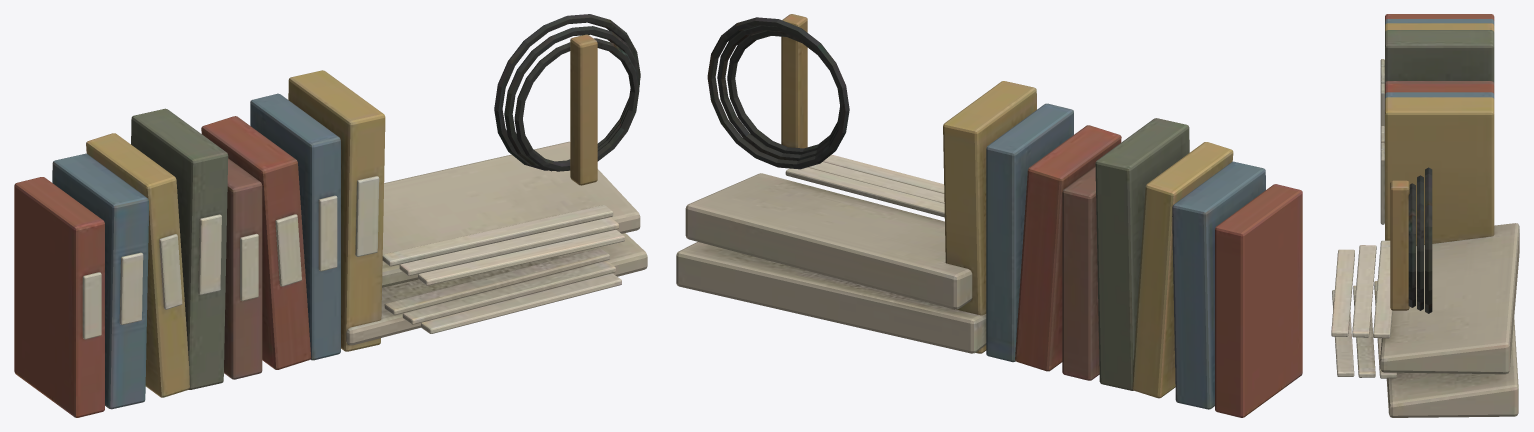
File: shelfwall-clutter-a.glb
3 renders of one model, left to right at view 1: azimuth 30°, elevation 25°; view 2: azimuth 150°, elevation 25°; view 3: azimuth 270°, elevation 25°, orthographic. The views are drawn at different scales.
Parts seen in each view (by area): view 1: case-baked; view 2: case-baked; view 3: case-baked.
Boxes of the visible parts, box(x1,y1,x2,y2) form: case-baked: box(14, 14, 647, 417); case-baked: box(676, 14, 1302, 417); case-baked: box(1331, 14, 1519, 417).
Size of the model in its own units: 0.8705 by 0.3673 by 0.2756.
1 material, 1 textured.
